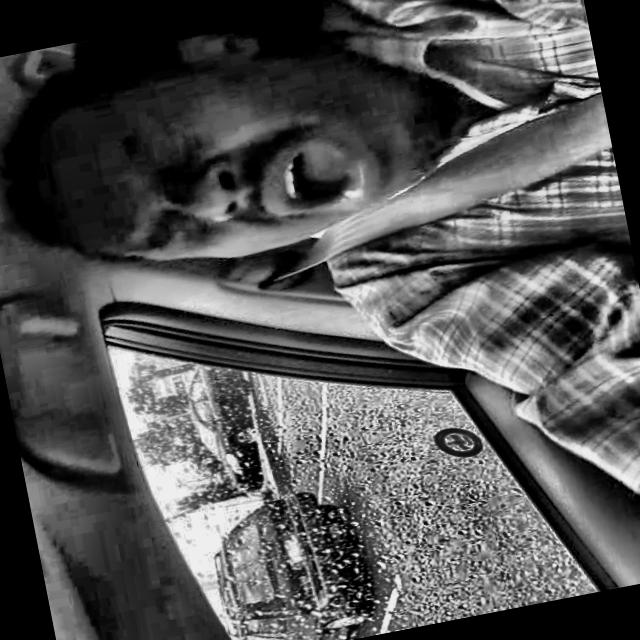open_mouth: (249, 119, 420, 247)
